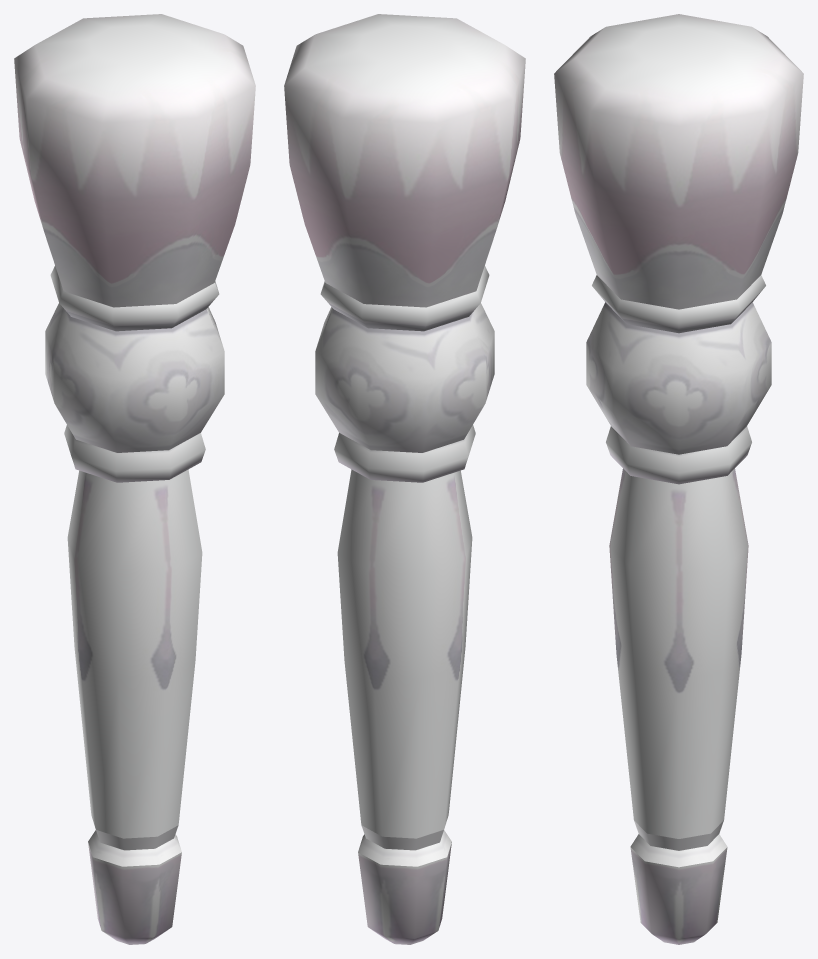
Rendered from brush-static-l4.glb.
The picture shows the model from 3 angles, left to right: view 1: azimuth 30°, elevation 25°; view 2: azimuth 150°, elevation 25°; view 3: azimuth 270°, elevation 25°; orthographic projection.
Parts seen in each view (by area): view 1: Brush_lv1; view 2: Brush_lv1; view 3: Brush_lv1.
Part boxes in pixels (x1,y1,x2,y2): Brush_lv1: (14, 14, 255, 944); Brush_lv1: (284, 14, 525, 944); Brush_lv1: (554, 14, 803, 944).
Bounding box in the file's own units: 37.42 × 147 × 37.42.
Materials: 1 (1 with a texture image).
